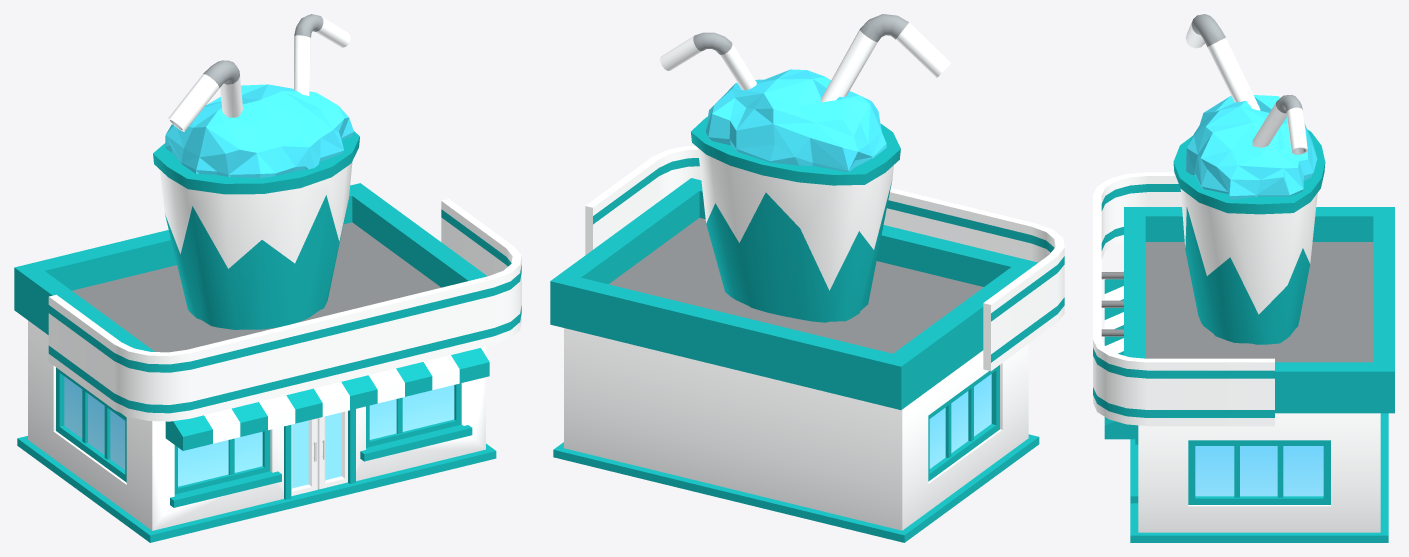
Rendered from Building_Snack_03.glb.
3 renders of one model, left to right at view 1: azimuth 30°, elevation 25°; view 2: azimuth 150°, elevation 25°; view 3: azimuth 270°, elevation 25°, orthographic. The views are drawn at different scales.
Parts seen in each view (by area): view 1: Building_Snack_03; view 2: Building_Snack_03; view 3: Building_Snack_03.
Boxes of the visible parts, left/top/right/bottom form: Building_Snack_03: left=14, top=14, right=521, bottom=542; Building_Snack_03: left=550, top=14, right=1064, bottom=542; Building_Snack_03: left=1093, top=14, right=1394, bottom=542.
Size of the model in its own units: 11.4 by 11.56 by 7.65.
Materials: 1 (1 with a texture image).
